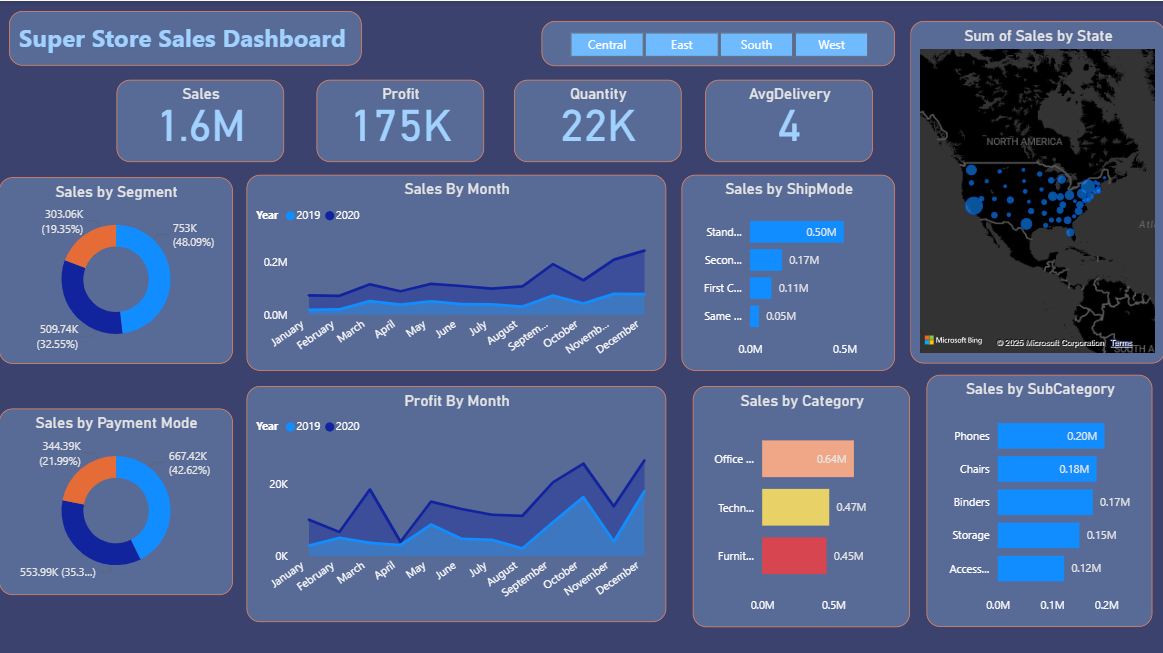

The page's visual inventory and layout, read from the dashboard file:
{"tool":"powerbi","page":{"name":"Sales Dashboard","canvas":[1280,720],"ordinal":0},"visuals":[{"type":"clusteredBarChart","title":"Sales by Category","fields":{"Category":["Sheet1.Category"],"Y":["Sum(Sheet1.Sales)"]},"box":[761.6,422.6,238.8,264.8],"z":0},{"type":"clusteredBarChart","title":"Sales by SubCategory","fields":{"Y":["Sum(Sheet1.Sales)"],"Category":["Sheet1.Sub-Category"]},"box":[1018.2,410.3,248.4,277.2],"z":1000},{"type":"clusteredBarChart","title":"Sales by ShipMode","fields":{"Y":["Sum(Sheet1.Sales)"],"Category":["Sheet1.Ship Mode"]},"box":[749.2,190.7,234.6,215.4],"z":2000},{"type":"stackedAreaChart","title":" Sales By Month","fields":{"Category":["Sheet1.Order Date.Variation.Date Hierarchy.Month","Sheet1.Order Date.Variation.Date Hierarchy.Day"],"Y":["Sum(Sheet1.Sales)"],"Series":["Sheet1.Order Date.Variation.Date Hierarchy.Year"]},"box":[271.7,190.7,461.1,215.4],"z":3000},{"type":"stackedAreaChart","title":" Profit By Month","fields":{"Category":["Sheet1.Order Date.Variation.Date Hierarchy.Month","Sheet1.Order Date.Variation.Date Hierarchy.Day"],"Series":["Sheet1.Order Date.Variation.Date Hierarchy.Year"],"Y":["Sum(Sheet1.Profit)"]},"box":[271.7,422.6,461.1,259.3],"z":4000},{"type":"map","fields":{"Category":["Sheet1.State"],"Size":["Sum(Sheet1.Sales)"]},"box":[1000.3,22,279.9,376],"z":5000},{"type":"donutChart","fields":{"Category":["Sheet1.Segment"],"Y":["Sum(Sheet1.Sales)"]},"box":[0,193.5,256.6,204.5],"z":6000},{"type":"donutChart","fields":{"Category":["Sheet1.Payment Mode"],"Y":["Sum(Sheet1.Sales)"]},"box":[0,447.3,256.6,204.5],"z":7000},{"type":"slicer","fields":{"Values":["Sheet1.Region"]},"box":[595.5,22,388.3,49.4],"z":8000},{"type":"textbox","box":[11,11,387,60.4],"z":9000},{"type":"card","title":"Sales","fields":{"Values":["Sum(Sheet1.Sales)"]},"box":[129,86.4,183.9,90.6],"z":10000},{"type":"card","title":"Profit","fields":{"Values":["Sum(Sheet1.Profit)"]},"box":[348.5,86.4,183.9,90.6],"z":11000},{"type":"card","title":"Quantity","fields":{"Values":["Sum(Sheet1.Quantity)"]},"box":[565.4,86.4,183.9,90.6],"z":12000},{"type":"card","title":"AvgDelivery","fields":{"Values":["Avg(Sheet1.AvgDelivery)"]},"box":[775.3,86.4,183.9,90.6],"z":13000}]}

Visuals, with their boxes in screenshot pixels (x1, y1, x2, y2), scaled from the page's 1280x720 canvas onto the 1163x653 screenshot:
"Sales by Category" clusteredBarChart: left=692, top=383, right=909, bottom=623
"Sales by SubCategory" clusteredBarChart: left=925, top=372, right=1151, bottom=624
"Sales by ShipMode" clusteredBarChart: left=681, top=173, right=894, bottom=368
" Sales By Month" stackedAreaChart: left=247, top=173, right=666, bottom=368
" Profit By Month" stackedAreaChart: left=247, top=383, right=666, bottom=618
map - Sheet1.State x Sum(Sheet1.Sales): left=909, top=20, right=1162, bottom=361
donutChart - Sheet1.Segment x Sum(Sheet1.Sales): left=0, top=175, right=233, bottom=361
donutChart - Sheet1.Payment Mode x Sum(Sheet1.Sales): left=0, top=406, right=233, bottom=591
slicer - Sheet1.Region: left=541, top=20, right=894, bottom=65
textbox: left=10, top=10, right=362, bottom=65
"Sales" card: left=117, top=78, right=284, bottom=161
"Profit" card: left=317, top=78, right=484, bottom=161
"Quantity" card: left=514, top=78, right=681, bottom=161
"AvgDelivery" card: left=704, top=78, right=872, bottom=161
